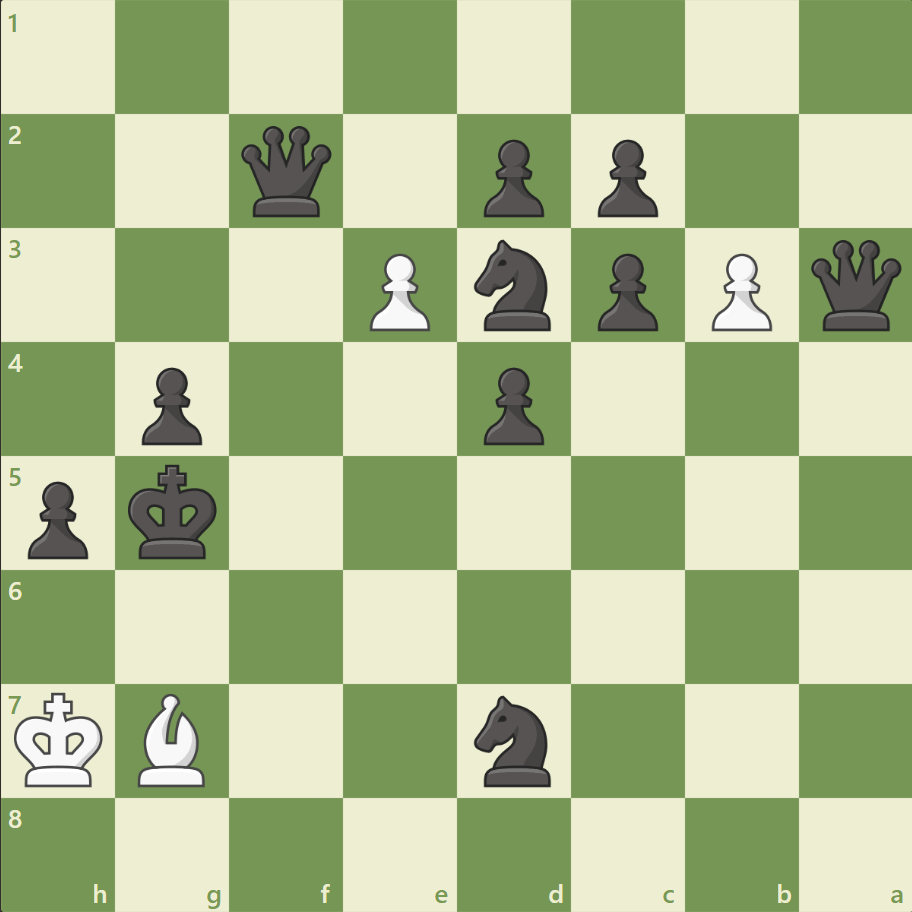B: (131, 687, 215, 790)
K: (11, 685, 111, 793)
P: (701, 246, 776, 337), (361, 246, 435, 337)
k: (124, 458, 224, 566)
n: (465, 688, 562, 791), (465, 234, 562, 337)
p: (20, 473, 95, 564), (474, 359, 549, 450), (133, 359, 208, 450), (474, 132, 549, 223), (588, 246, 662, 337), (588, 132, 662, 223)
q: (237, 122, 336, 222), (805, 236, 904, 335)
